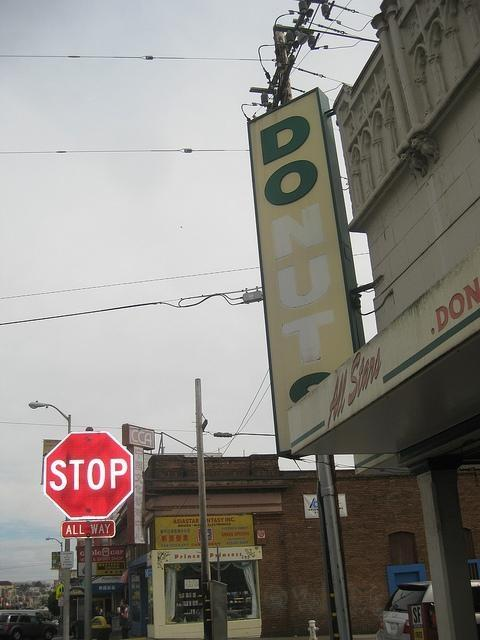car: (376, 580, 480, 640), (0, 613, 58, 640)
